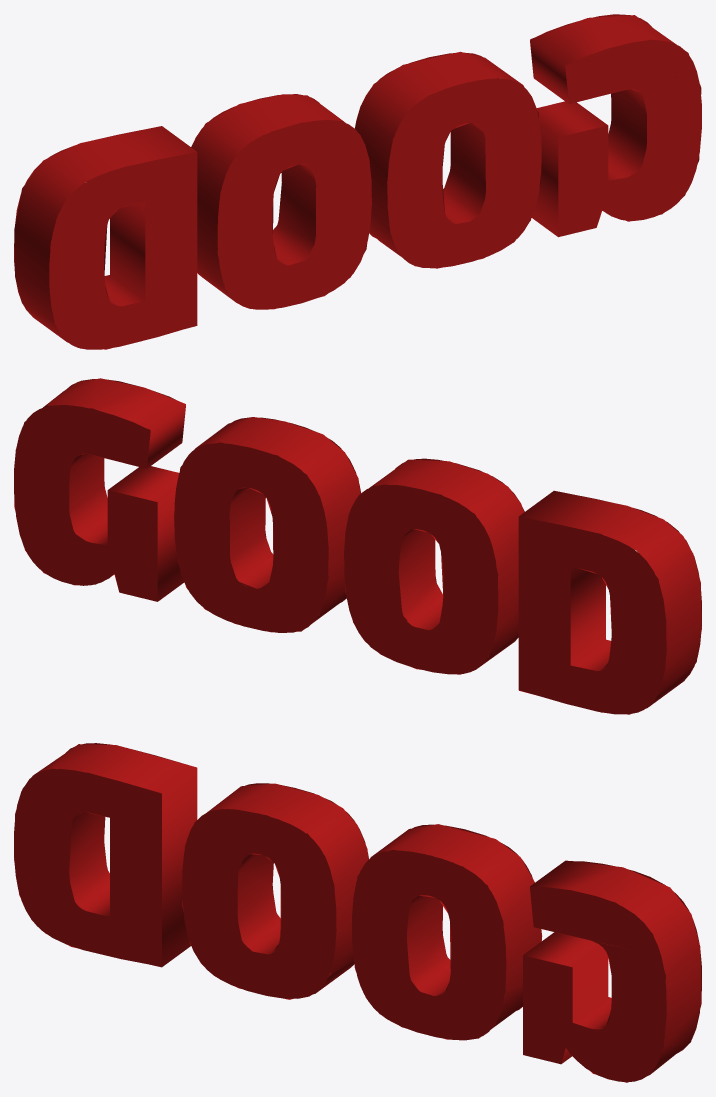
File: good.fbx
3 renders of one model, top to bottom at view 1: azimuth 30°, elevation 25°; view 2: azimuth 150°, elevation 25°; view 3: azimuth 330°, elevation 25°, orthographic.
Visible parts, largest first — view 1: Text; view 2: Text; view 3: Text.
Part boxes in pixels (x1,y1,x2,y2): Text: [14, 14, 701, 349]; Text: [14, 378, 701, 714]; Text: [14, 743, 701, 1082].
Size of the model in its own units: 8.51 by 2.27 by 0.8.
